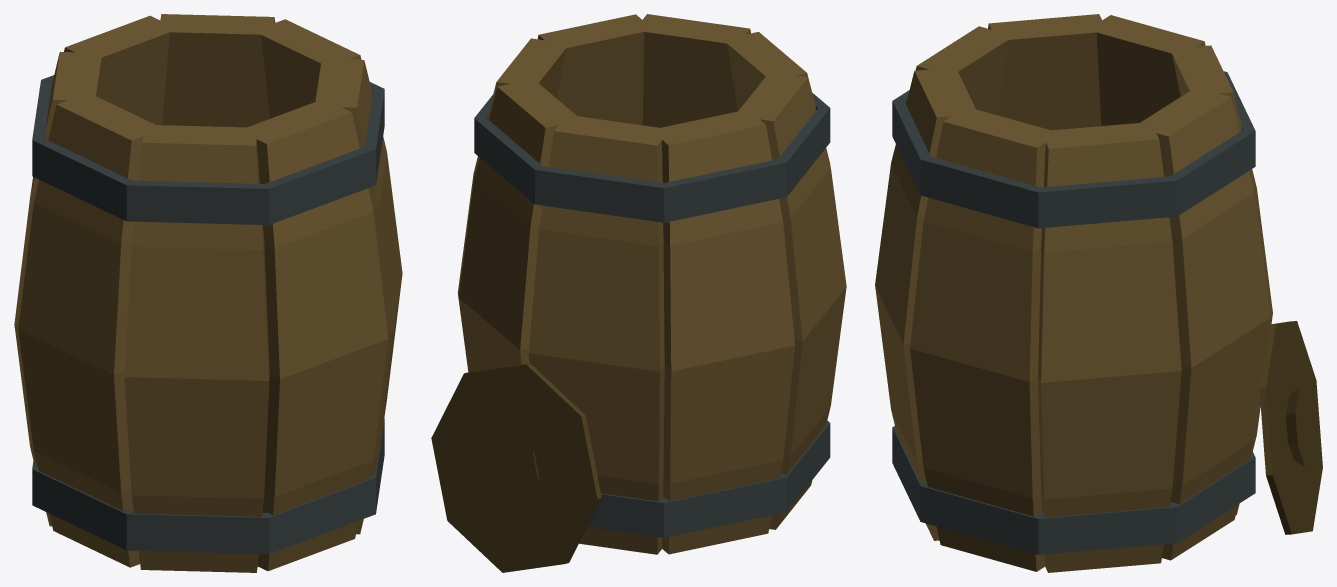
File: uploads_files_3130421_Empty+barrel.fbx
3 renders of one model, left to right at view 1: azimuth 30°, elevation 25°; view 2: azimuth 150°, elevation 25°; view 3: azimuth 270°, elevation 25°, orthographic. The views are drawn at different scales.
Parts seen in each view (by area): view 1: Empty barrel; view 2: Empty barrel; view 3: Empty barrel.
Boxes of the visible parts, x1,y1,x2,y2 form: Empty barrel: [14, 14, 402, 572]; Empty barrel: [431, 14, 846, 572]; Empty barrel: [875, 14, 1322, 572].
Size of the model in its own units: 33.91 by 40.75 by 38.17.
